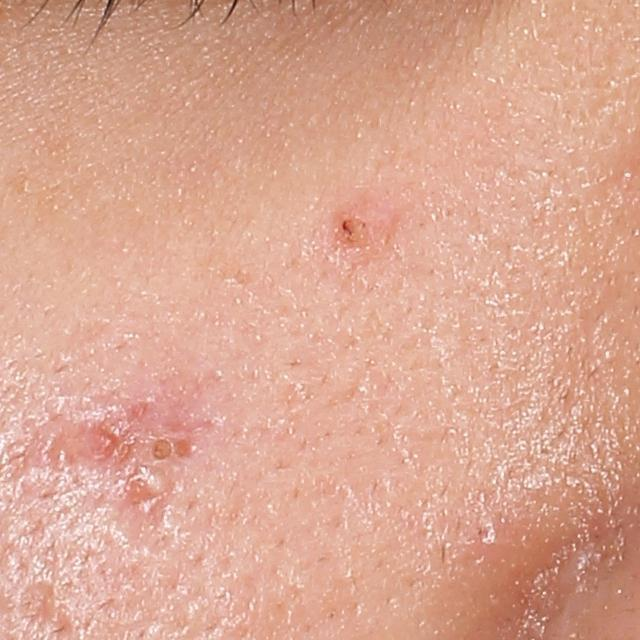comedo: (144, 430, 179, 464)
papule: (331, 196, 396, 250)
